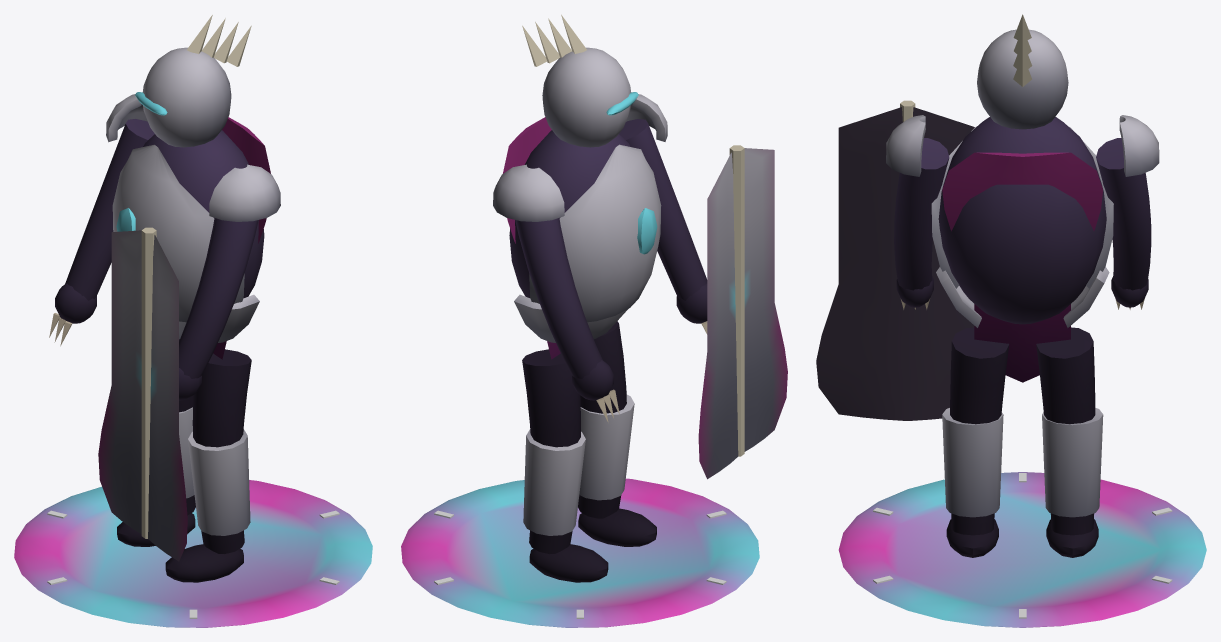
File: Warden.fbx
The picture shows the model from 3 angles, left to right: view 1: azimuth 30°, elevation 25°; view 2: azimuth 150°, elevation 25°; view 3: azimuth 270°, elevation 25°; orthographic projection. The views are drawn at different scales.
Parts seen in each view (by area): view 1: Aura, Shield, Body, LegL, ArmL, Head, ArmR, LegR; view 2: Aura, Shield, Body, LegR, ArmR, LegL, Head, ArmL; view 3: Aura, Body, Shield, LegL, LegR, ArmR, ArmL, Head.
Part boxes in pixels (x1,y1,x2,y2): Aura: [14, 480, 372, 627]; Shield: [98, 227, 187, 561]; Body: [112, 117, 270, 359]; LegL: [165, 349, 251, 582]; ArmL: [179, 164, 280, 400]; Head: [135, 15, 251, 147]; ArmR: [49, 94, 154, 346]; LegR: [117, 339, 195, 546]; Aura: [401, 478, 759, 627]; Shield: [698, 145, 787, 479]; Body: [503, 117, 661, 359]; LegR: [522, 349, 608, 582]; ArmR: [493, 164, 619, 422]; LegL: [578, 321, 656, 546]; Head: [522, 14, 638, 147]; ArmL: [619, 94, 707, 334]; Aura: [838, 472, 1206, 627]; Body: [931, 117, 1113, 382]; Shield: [816, 100, 974, 420]; LegL: [942, 327, 1009, 557]; LegR: [1036, 327, 1103, 557]; ArmR: [1096, 115, 1159, 309]; ArmL: [886, 115, 949, 309]; Head: [977, 14, 1068, 129].
Size of the model in its own units: 0.96 by 1.58 by 1.02.
